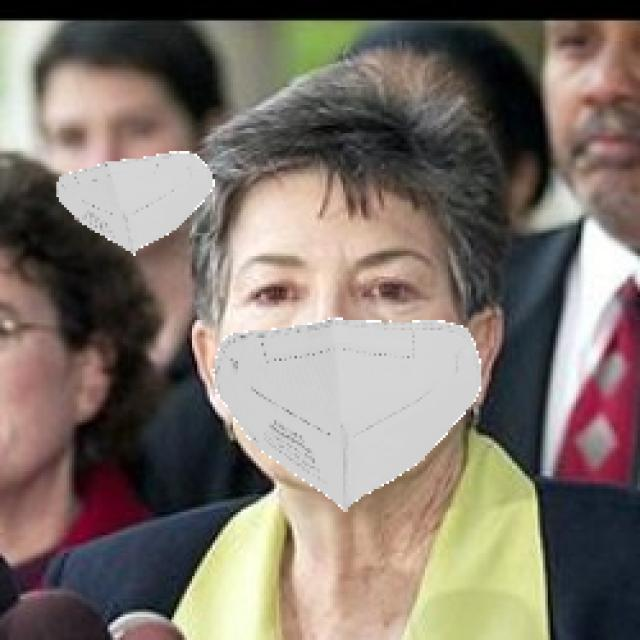mask: (183, 311, 512, 503), (62, 144, 215, 257)
